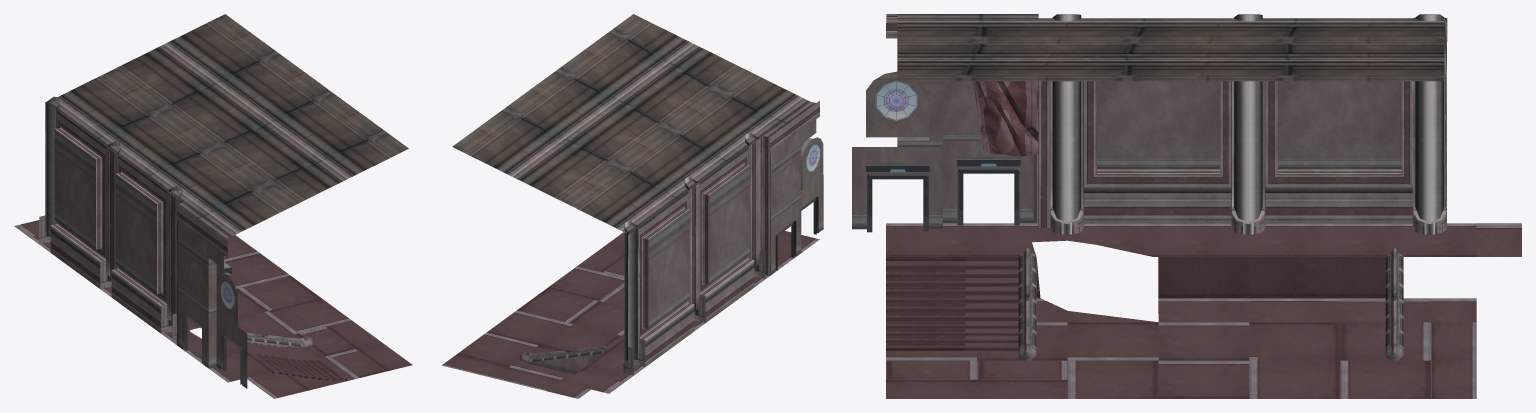
File: Cor1_bldg_Grand_hall_3.fbx
The picture shows the model from 3 angles, left to right: view 1: azimuth 30°, elevation 25°; view 2: azimuth 150°, elevation 25°; view 3: azimuth 270°, elevation 25°; orthographic projection. The views are drawn at different scales.
Visible parts, largest first — view 1: polymsh_detached155, polymsh1308, GH_3, polymsh1450, polymsh949, polymsh1379, polymsh_extracted439, polymsh1440; view 2: polymsh_detached155, polymsh1308, GH_3, polymsh1450, polymsh1380, polymsh_extracted439, polymsh1446; view 3: GH_3, polymsh1308, polymsh_detached155, polymsh949, polymsh1450, polymsh_detached121, polymsh_extracted439, polymsh1380, polymsh1379, polymsh_detached168, polymsh1446, polymsh1440 (+1 smaller).
Part boxes in pixels (bbox=[...]): polymsh_detached155: bbox=[46, 14, 408, 238]; polymsh1308: bbox=[39, 96, 227, 345]; GH_3: bbox=[14, 220, 412, 398]; polymsh1450: bbox=[178, 222, 247, 388]; polymsh949: bbox=[247, 341, 346, 380]; polymsh1379: bbox=[246, 332, 313, 347]; polymsh_extracted439: bbox=[216, 273, 237, 326]; polymsh1440: bbox=[221, 333, 242, 384]; polymsh_detached155: bbox=[452, 14, 815, 234]; polymsh1308: bbox=[622, 100, 819, 375]; GH_3: bbox=[441, 231, 819, 398]; polymsh1450: bbox=[771, 119, 823, 274]; polymsh1380: bbox=[519, 345, 608, 374]; polymsh_extracted439: bbox=[802, 137, 823, 189]; polymsh1446: bbox=[775, 220, 796, 270]; GH_3: bbox=[886, 223, 1521, 398]; polymsh1308: bbox=[886, 14, 1447, 234]; polymsh_detached155: bbox=[897, 14, 1444, 81]; polymsh949: bbox=[886, 257, 1018, 350]; polymsh1450: bbox=[852, 81, 1033, 229]; polymsh_detached121: bbox=[973, 81, 1038, 156]; polymsh_extracted439: bbox=[866, 71, 928, 137]; polymsh1380: bbox=[1385, 248, 1403, 360]; polymsh1379: bbox=[1018, 248, 1036, 360]; polymsh_detached168: bbox=[876, 81, 916, 120]; polymsh1446: bbox=[957, 167, 1019, 225]; polymsh1440: bbox=[867, 173, 928, 232].
Size of what is drawn, in the model's own units: 2800 by 3088 by 5900.
